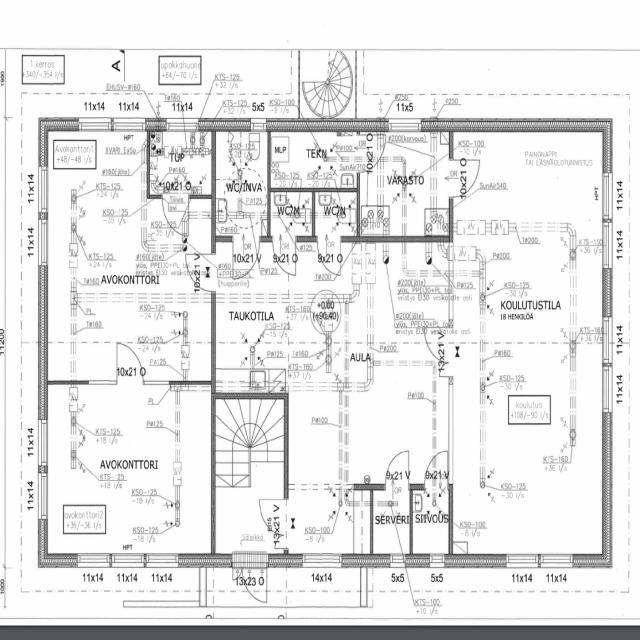door: (242, 553, 268, 603), (184, 254, 216, 292), (233, 236, 260, 280), (449, 160, 479, 198), (357, 135, 387, 172), (116, 343, 142, 384), (162, 195, 188, 236), (424, 326, 453, 362), (423, 449, 448, 490), (260, 499, 289, 534), (384, 449, 408, 490), (317, 236, 341, 276), (273, 236, 296, 275), (232, 553, 242, 582), (274, 535, 289, 549), (439, 363, 453, 376)
